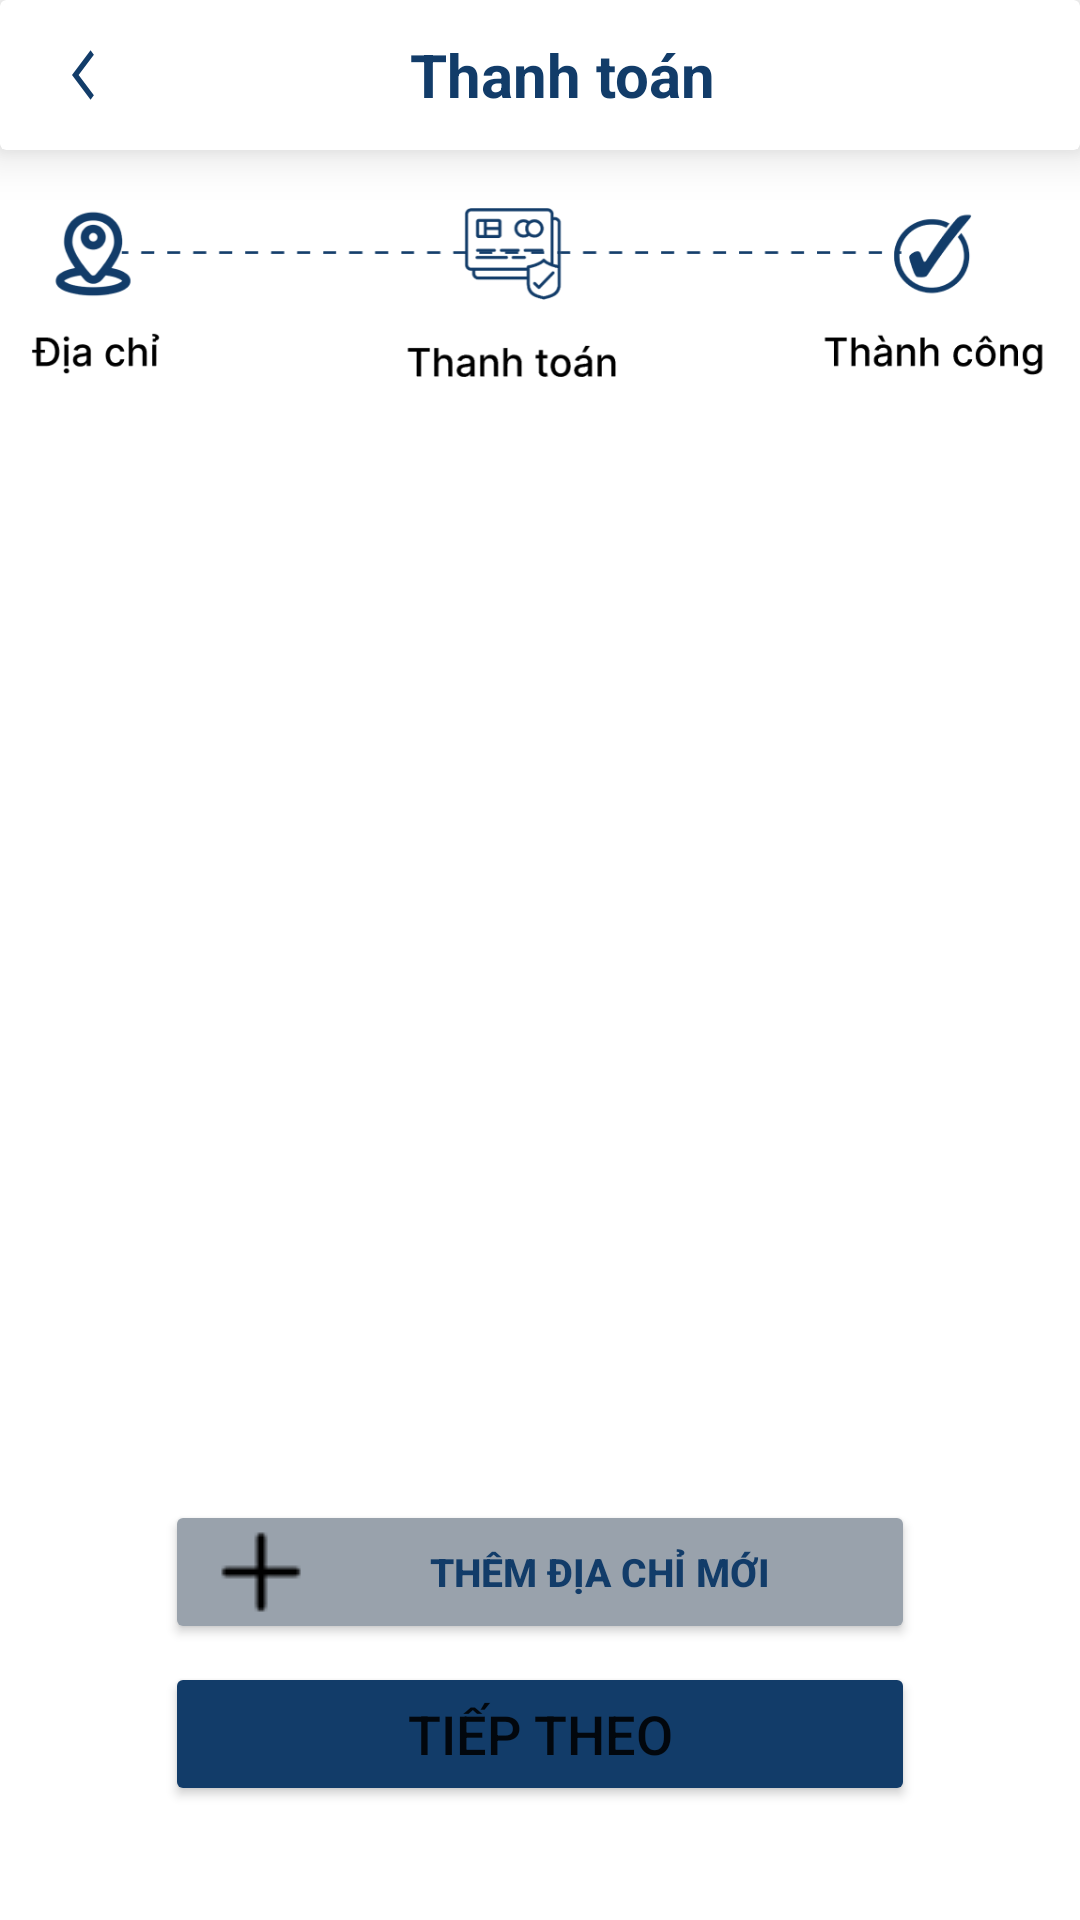

Point at icon controls on the screen. Image size 1080x1920, points as [x,y].
back: [83,75]
